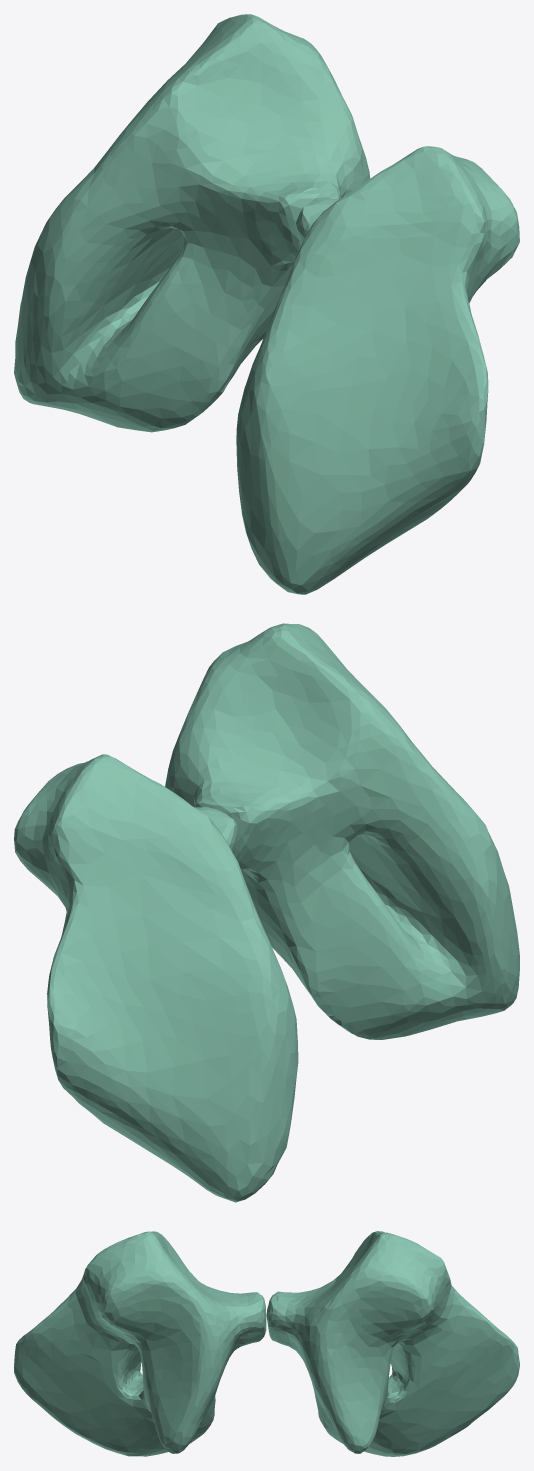
3 views of the same model, one above another, from view 1: azimuth 30°, elevation 25°; view 2: azimuth 150°, elevation 25°; view 3: azimuth 270°, elevation 25° (orthographic). The views are drawn at different scales.
Parts seen in each view (by area): view 1: 159.obj; view 2: 159.obj; view 3: 159.obj.
Boxes of the visible parts, x1=… form: 159.obj: x1=14, y1=14, x2=519, y2=594; 159.obj: x1=14, y1=623, x2=519, y2=1202; 159.obj: x1=14, y1=1231, x2=519, y2=1456.
Bounding box in the file's own units: 1875 × 2407 × 4225.
